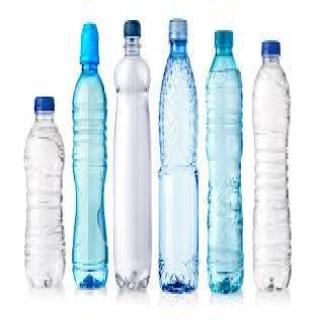Plastic-bottle: (158, 17, 200, 301), (113, 19, 155, 293), (252, 35, 295, 297), (205, 25, 246, 297), (71, 21, 111, 293), (23, 91, 69, 295)
